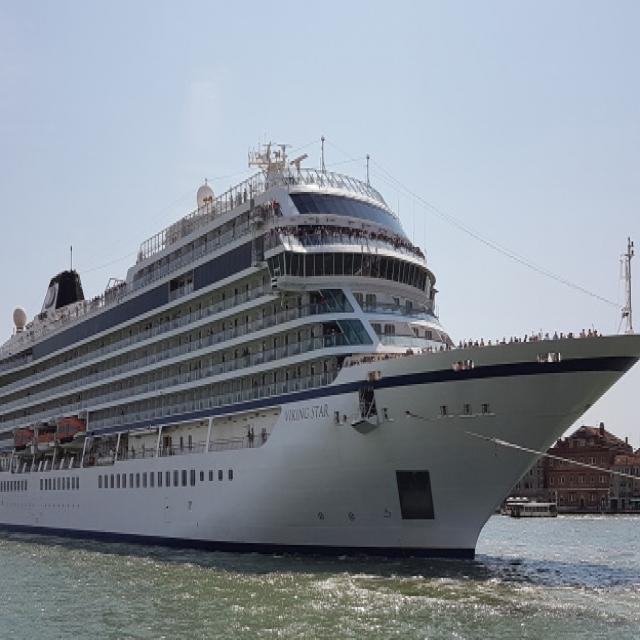cruises: (1, 122, 640, 588)
